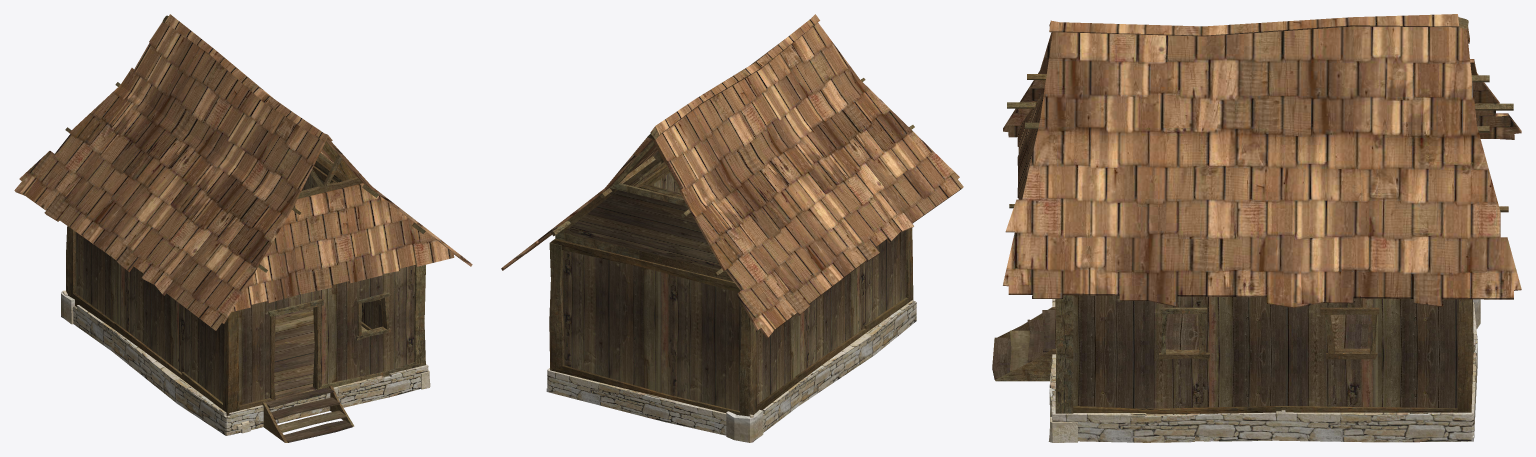
Rendered from WoodenCabin.fbx.
3 views of the same model, side by side, from view 1: azimuth 30°, elevation 25°; view 2: azimuth 150°, elevation 25°; view 3: azimuth 270°, elevation 25° (orthographic). The views are drawn at different scales.
Parts seen in each view (by area): view 1: Roof, WoodCabin; view 2: Roof, WoodCabin; view 3: Roof, WoodCabin.
Boxes of the visible parts, x1,y1,x2,y2 form: Roof: (14, 14, 472, 330); WoodCabin: (61, 163, 430, 442); Roof: (501, 14, 963, 338); WoodCabin: (546, 162, 916, 442); Roof: (1003, 14, 1521, 307); WoodCabin: (992, 295, 1480, 442).
Size of the model in its own units: 6663 by 6672 by 8792.
1 material, 1 textured.
